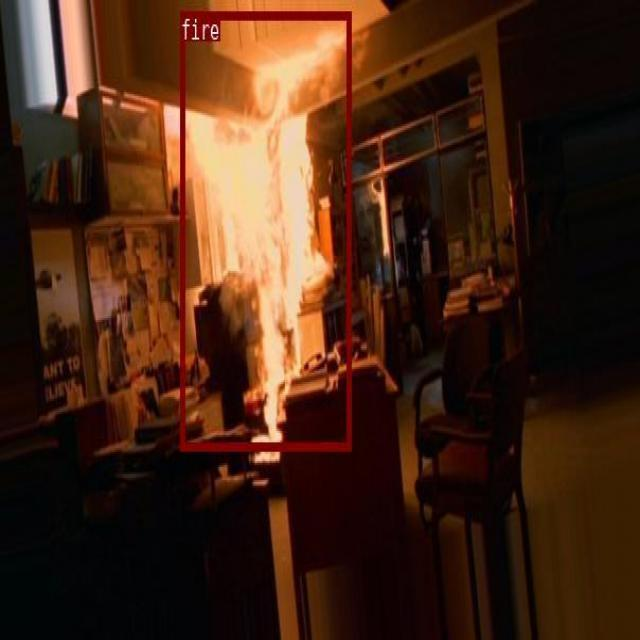fire: (180, 10, 351, 449)
